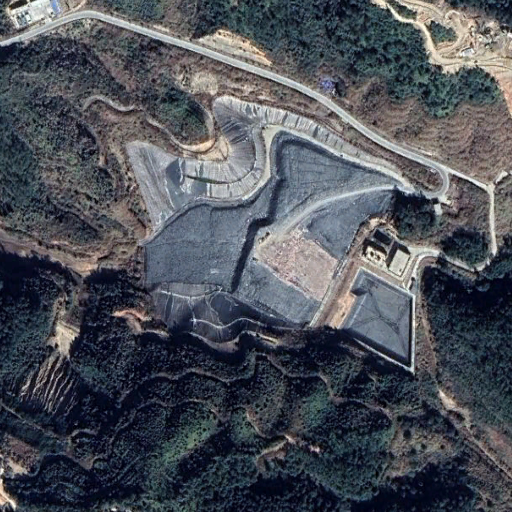lf: (129, 94, 404, 341)
